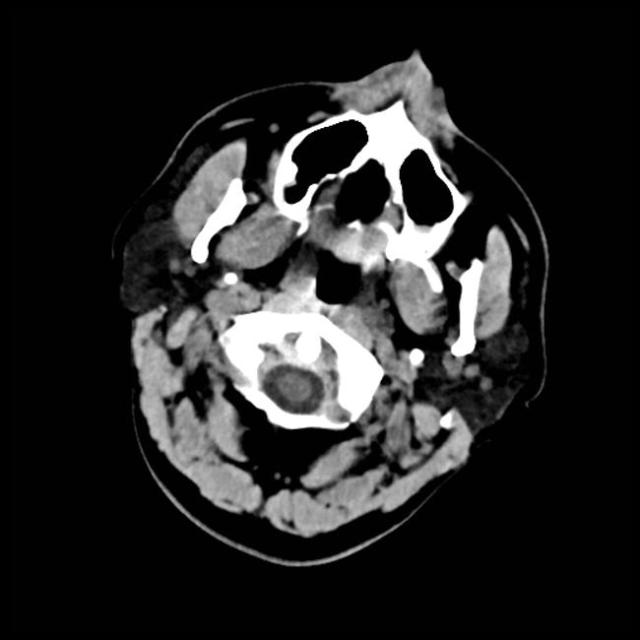lesion: (114, 49, 550, 550)
